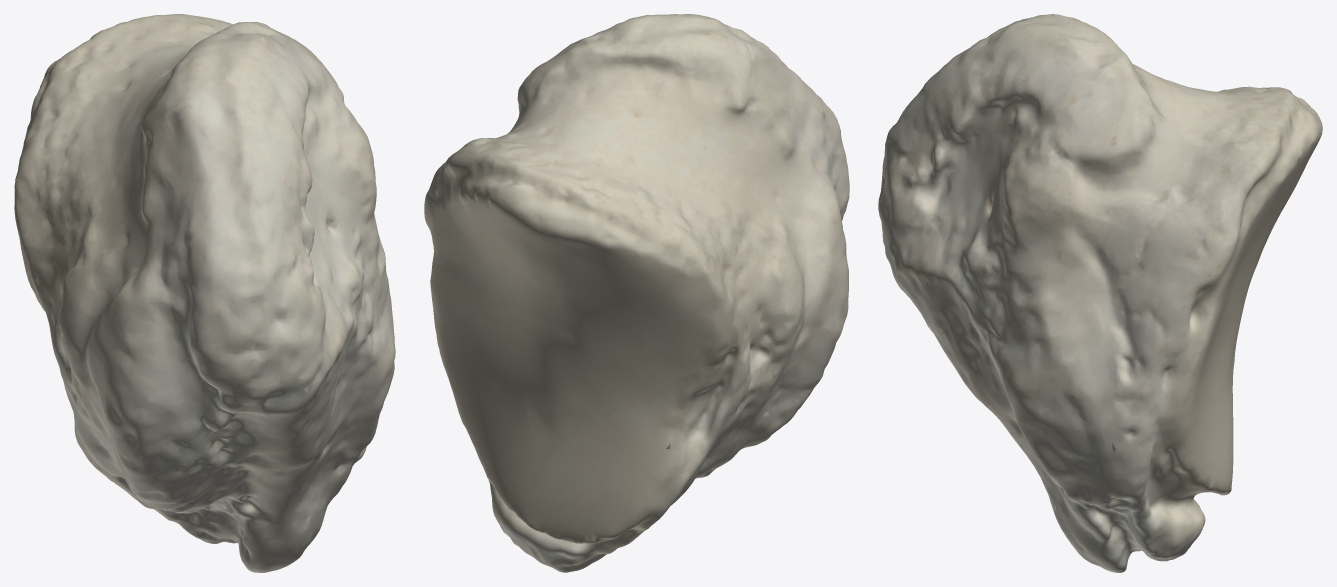
3 renders of one model, left to right at view 1: azimuth 30°, elevation 25°; view 2: azimuth 150°, elevation 25°; view 3: azimuth 270°, elevation 25°, orthographic. The views are drawn at different scales.
Visible parts, largest first — view 1: Kniescheibe_Schwein_li.001; view 2: Kniescheibe_Schwein_li.001; view 3: Kniescheibe_Schwein_li.001.
Boxes of the visible parts, box(x1,y1,x2,y2) form: Kniescheibe_Schwein_li.001: box(14, 14, 395, 572); Kniescheibe_Schwein_li.001: box(424, 14, 849, 572); Kniescheibe_Schwein_li.001: box(878, 14, 1322, 572).
Size of the model in its own units: 3690 by 5801 by 4545.
1 material, 1 textured.
